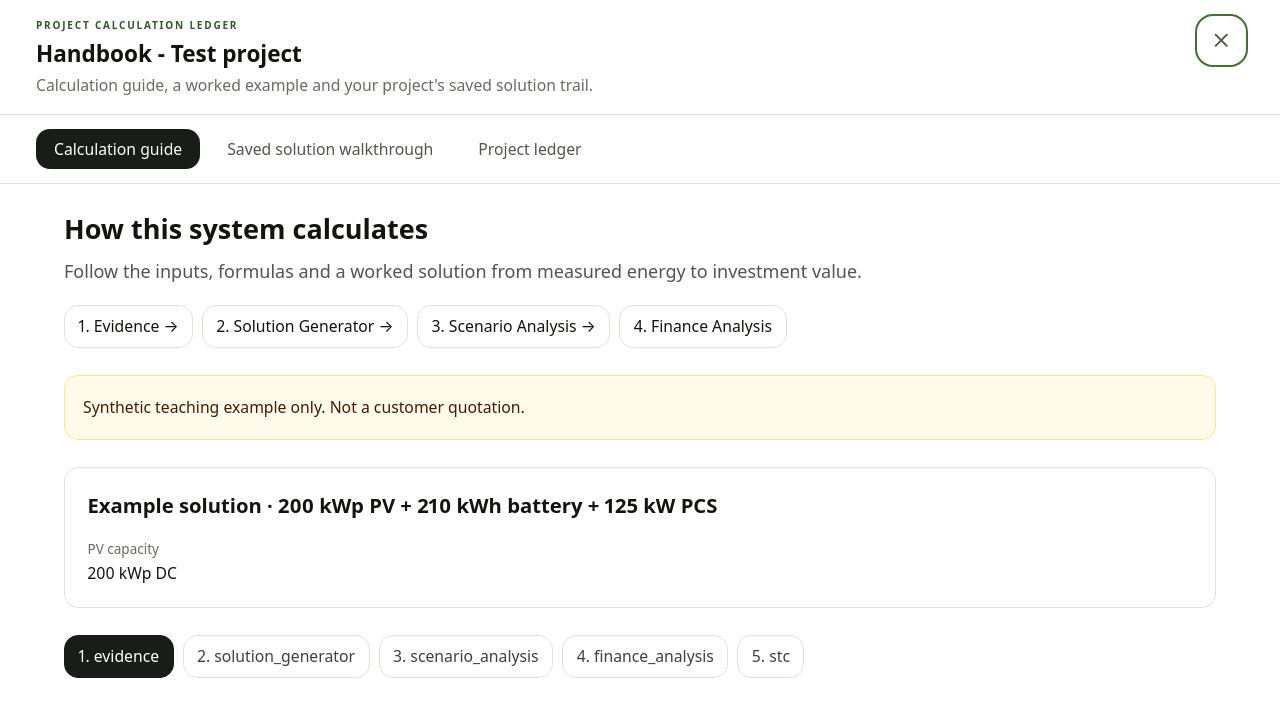
Test: CiHandbookPanel › matches the selected scenario across saved results and withholds stale finance
Click the button "Saved solution walkthrough" at (330, 149), box [209, 128, 451, 169]
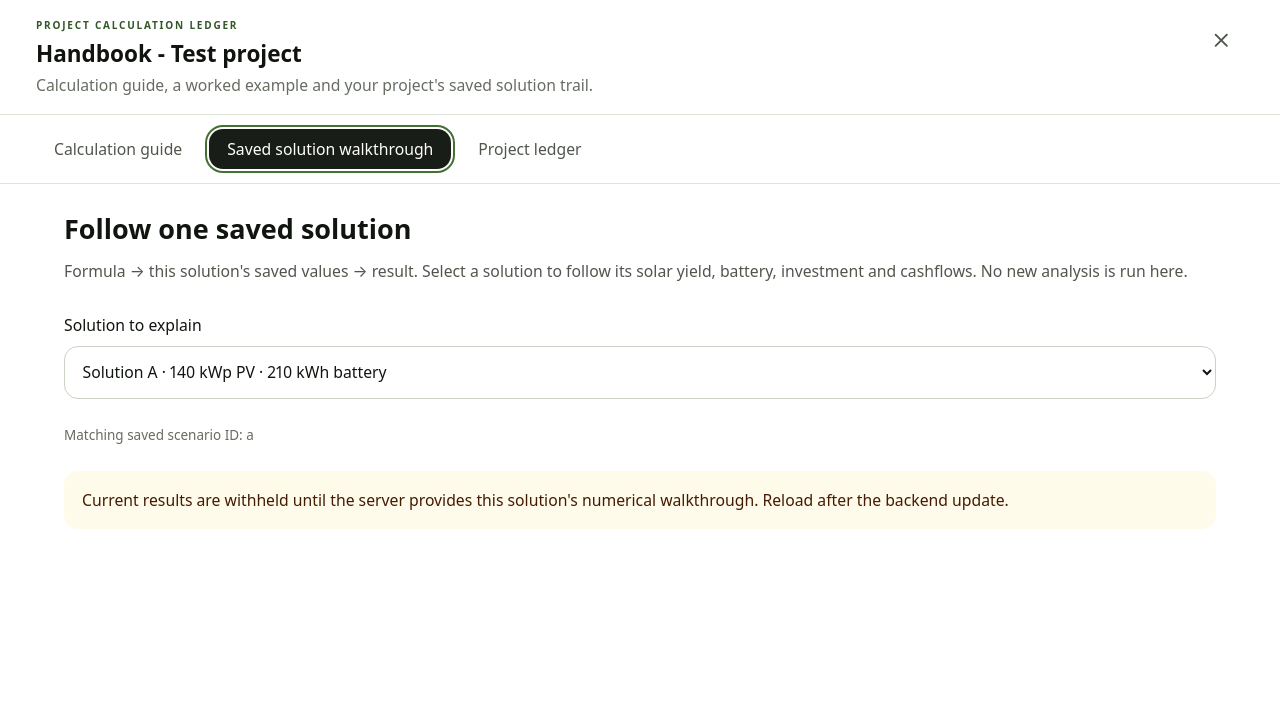
Result: the text "Matching saved scenario ID: a" is shown at [64, 426, 254, 444]
Select "Solution B · 200 kWp PV · 294 kWh battery" in the dropdown labelled "Solution to explain" at (640, 372), box [64, 346, 1216, 398]
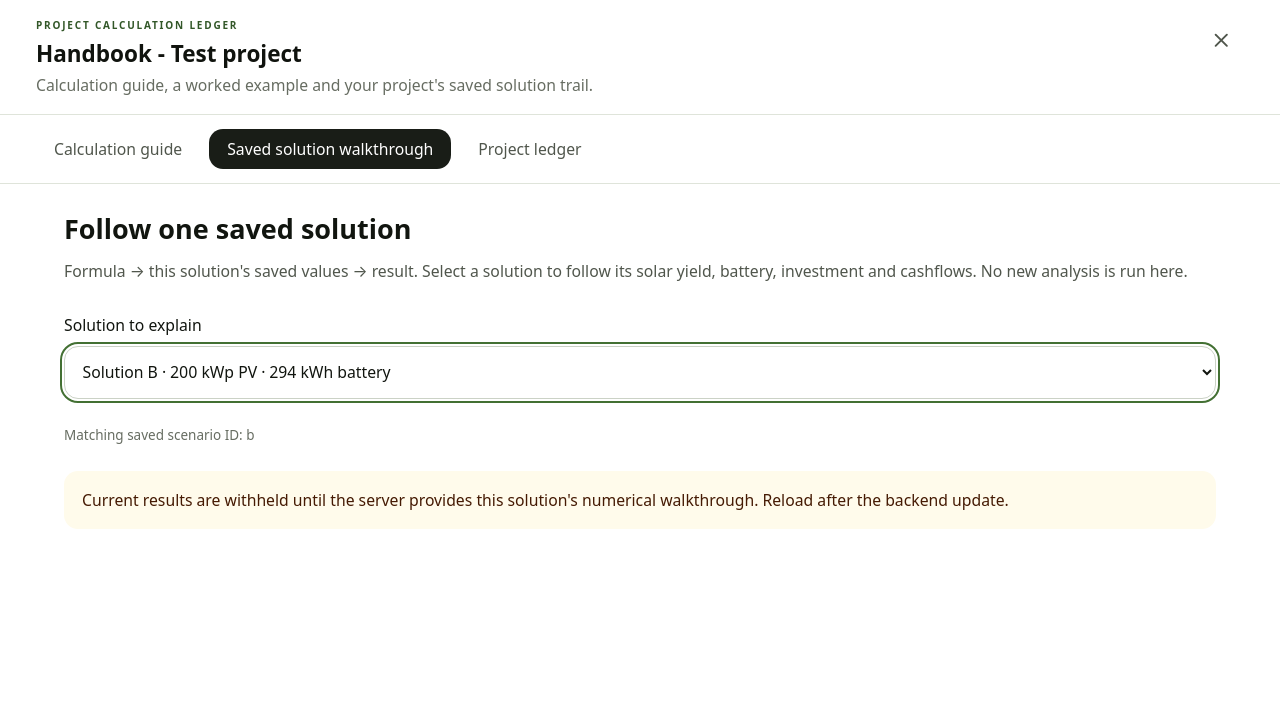
Result: the text "Current results are withheld" is shown at [82, 488, 1009, 510]
Result: the text "Matching saved scenario ID: b" is shown at [64, 426, 255, 444]
Result: the text "Matching saved scenario ID: a" is gone
